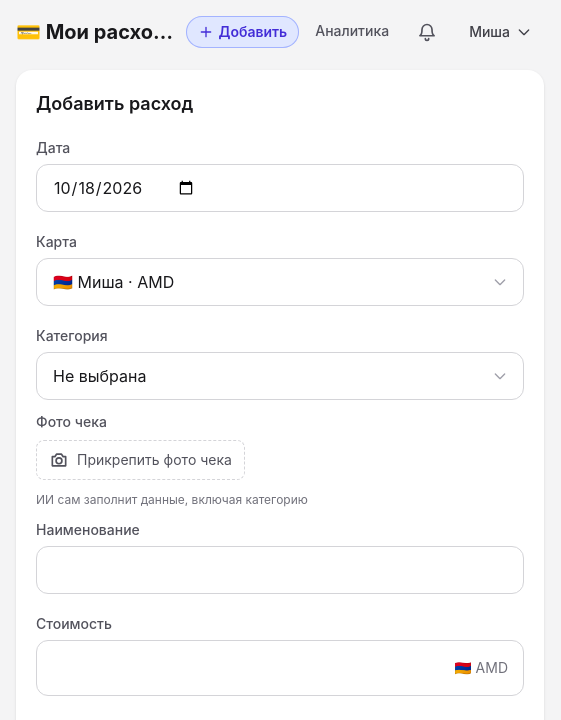
Test: чек без выбранной категории › подсказка пропадает, когда категория выбрана
Select "кафе" in the dropdown labelled "Категория" at (280,376), box x1=36 y1=352 x2=524 y2=400
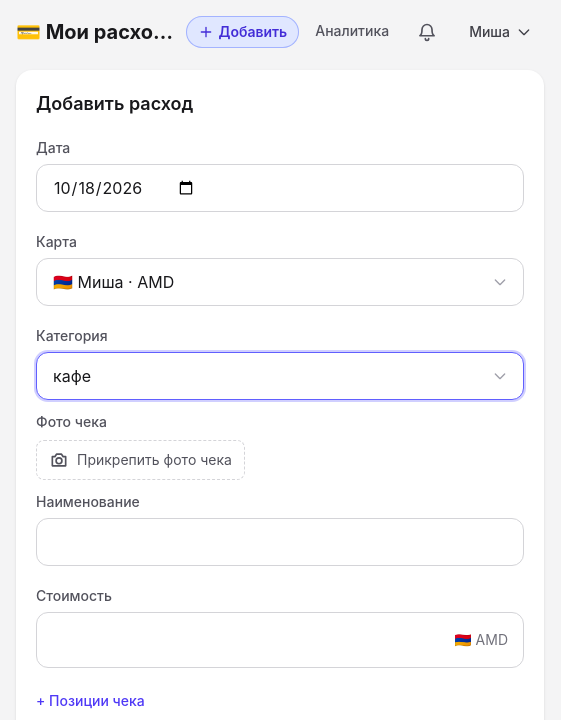
Now the text "ИИ сам заполнит данные, включая категорию" is gone
